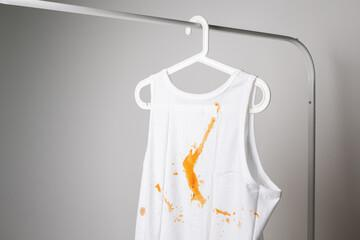gun: (182, 113, 207, 207), (162, 200, 178, 221), (215, 204, 234, 221), (166, 159, 177, 176), (151, 182, 165, 192), (211, 100, 221, 112), (139, 201, 144, 219), (252, 210, 260, 218)
